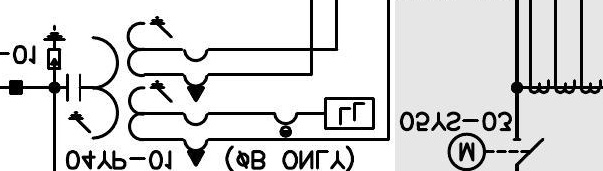115_cvt_1p: (65, 15, 211, 167)
115_la: (42, 24, 67, 70)
LL: (324, 96, 375, 130)
